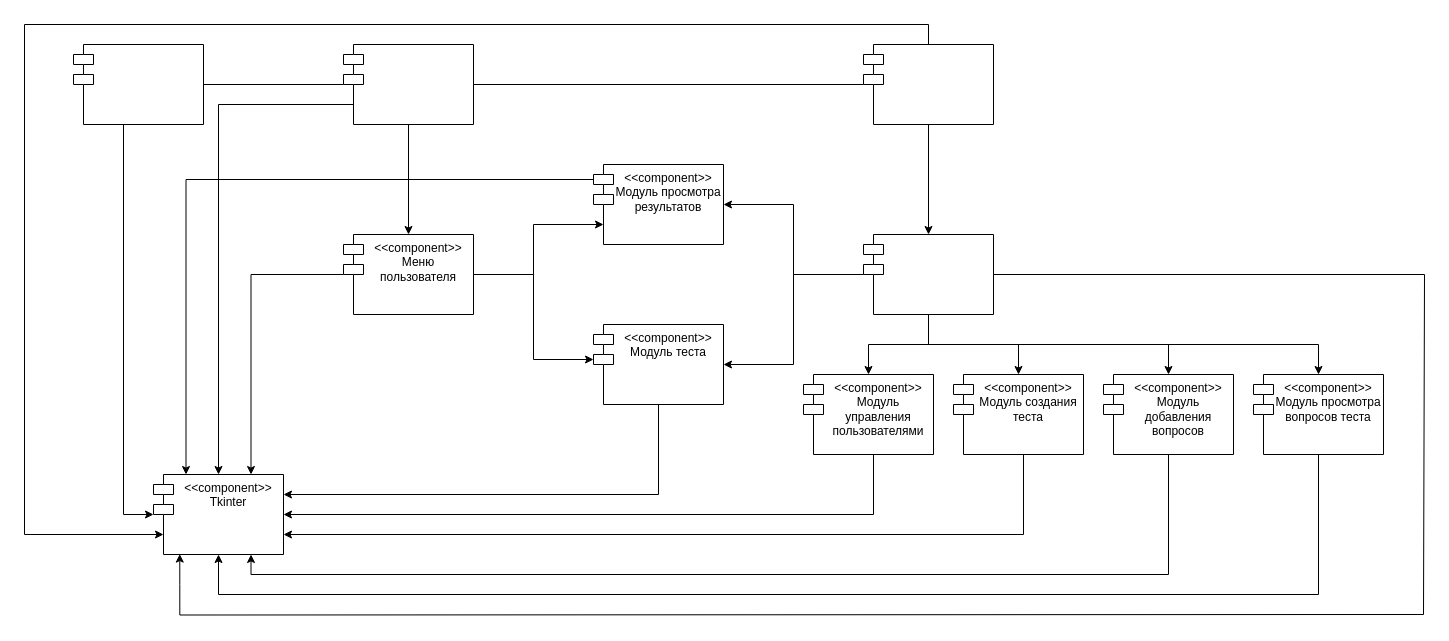
This 1449x641 diagram has some shape labels left out. The centre of each missing label's shape, as x and y in pixels:
"<<component>> Авторизация администратор" belongs at point 928,84.
"<<component>> Авторизация пользователя" belongs at point 408,84.
"<<component>> Меню администратора" belongs at point 928,274.
"<<component>> Регистрация" belongs at point 138,84.
